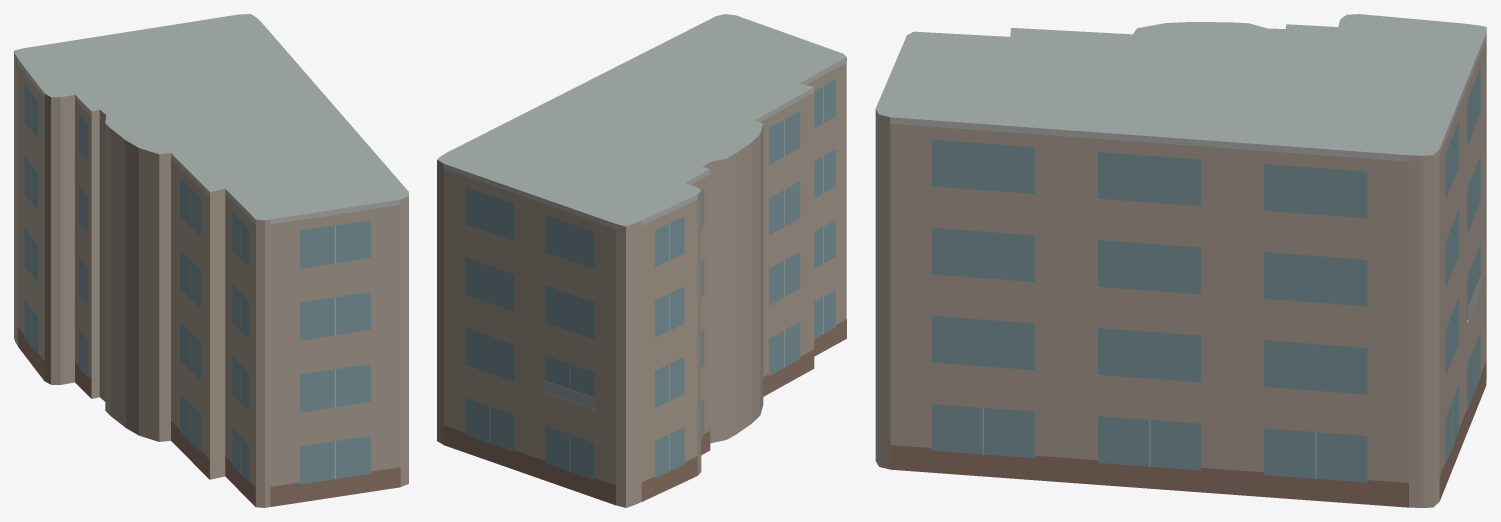
File: survey-upis-32789277.glb
The picture shows the model from 3 angles, left to right: view 1: azimuth 30°, elevation 25°; view 2: azimuth 150°, elevation 25°; view 3: azimuth 270°, elevation 25°; orthographic projection. The views are drawn at different scales.
Parts seen in each view (by area): view 1: survey-upis-32789277.tmp; view 2: survey-upis-32789277.tmp; view 3: survey-upis-32789277.tmp.
Part boxes in pixels (<box>): survey-upis-32789277.tmp: <box>14,14,408,507</box>; survey-upis-32789277.tmp: <box>437,14,846,507</box>; survey-upis-32789277.tmp: <box>875,14,1486,507</box>.
Size of the model in its own units: 11.55 by 13.4 by 21.06.
